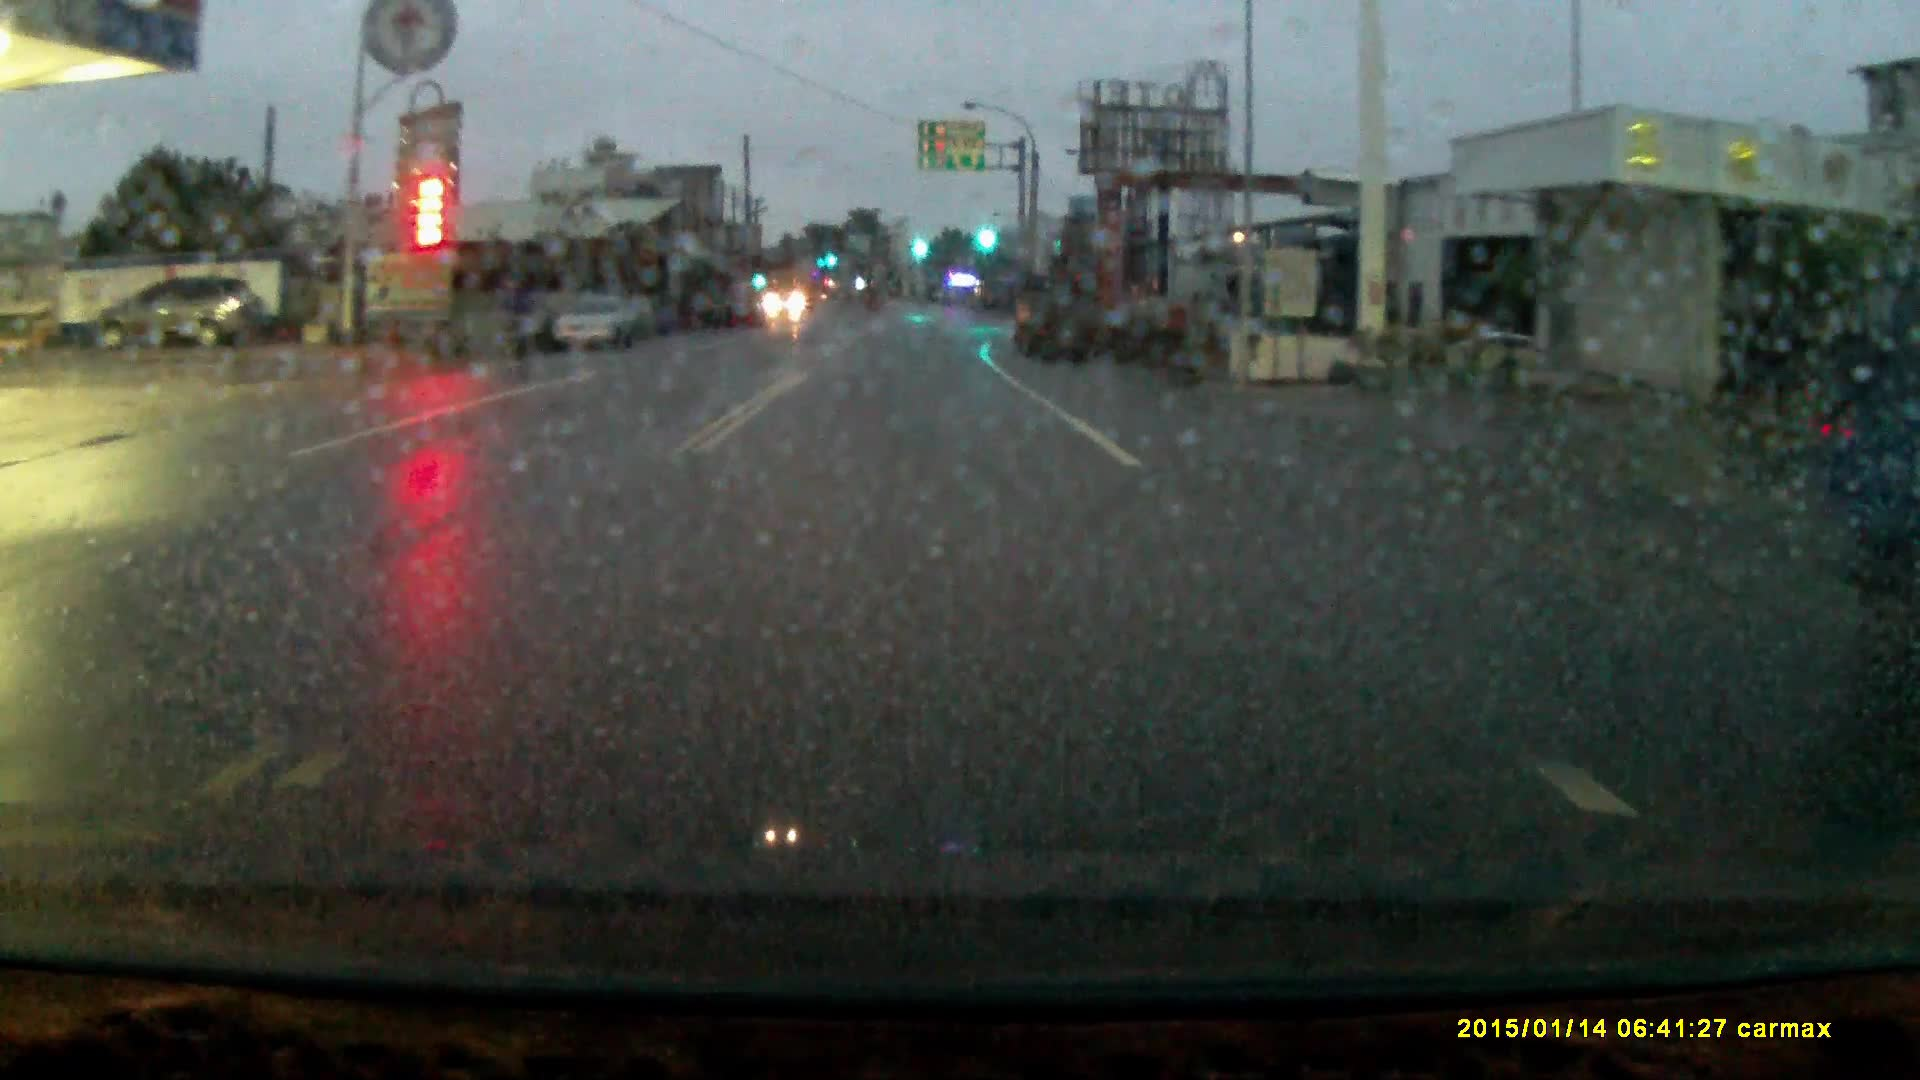rider: (477, 252, 552, 388)
vehicle: (87, 276, 270, 353), (1008, 268, 1103, 372), (548, 297, 659, 358)
